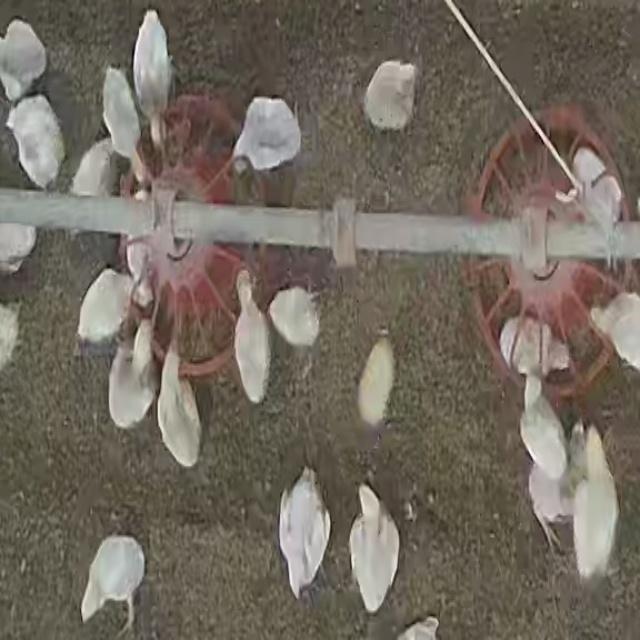chicken: (571, 425, 617, 581), (278, 467, 330, 601), (348, 482, 400, 613), (81, 532, 145, 628), (132, 8, 174, 148), (158, 335, 202, 468), (5, 94, 66, 187), (231, 97, 302, 174), (233, 271, 274, 404), (519, 378, 568, 485), (107, 324, 155, 432), (100, 65, 144, 172), (75, 267, 131, 351), (364, 54, 422, 135), (570, 148, 623, 232), (501, 315, 568, 379), (593, 292, 640, 377), (527, 453, 575, 535), (0, 19, 47, 102), (268, 283, 327, 344), (357, 335, 397, 423), (70, 138, 116, 202), (125, 227, 155, 294)
